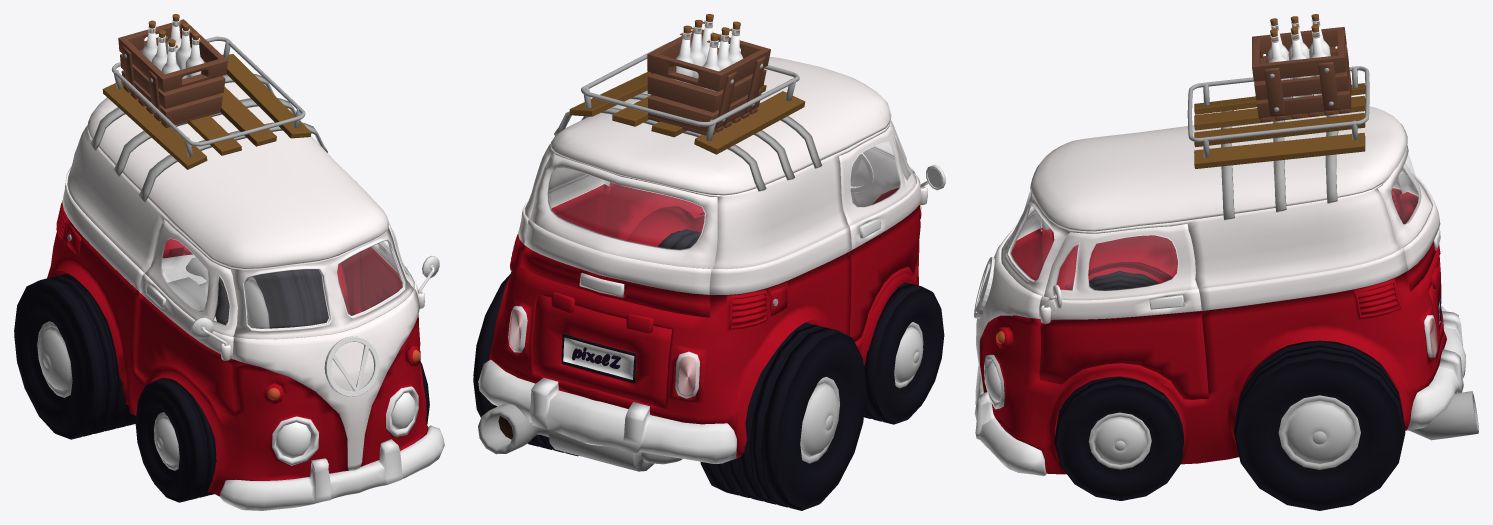
The model's file is vwVan einzelntest.glb.
3 renders of one model, left to right at view 1: azimuth 30°, elevation 25°; view 2: azimuth 150°, elevation 25°; view 3: azimuth 270°, elevation 25°, orthographic. The views are drawn at different scales.
Visible parts, largest first — view 1: Bierkasten, Cylinder.002, Bierkasten.001, Cylinder.001; view 2: Bierkasten, Cylinder.002, Bierkasten.001, Cylinder.001; view 3: Bierkasten, Cylinder.002, Cylinder.001, Bierkasten.001.
Boxes of the visible parts, left/top/right/bottom form: Bierkasten: left=47, top=20, right=444, bottom=510; Cylinder.002: left=14, top=269, right=328, bottom=439; Bierkasten.001: left=118, top=14, right=227, bottom=127; Cylinder.001: left=135, top=361, right=429, bottom=502; Bierkasten: left=478, top=21, right=945, bottom=471; Cylinder.002: left=473, top=274, right=866, bottom=510; Bierkasten.001: left=647, top=14, right=770, bottom=135; Cylinder.001: left=654, top=229, right=944, bottom=424; Bierkasten: left=974, top=23, right=1478, bottom=476; Cylinder.002: left=1234, top=340, right=1405, bottom=510; Cylinder.001: left=1054, top=271, right=1183, bottom=500; Bierkasten.001: left=1252, top=14, right=1351, bottom=122.
Bounding box in the file's own units: 0.4147 × 0.5501 × 0.6133.
